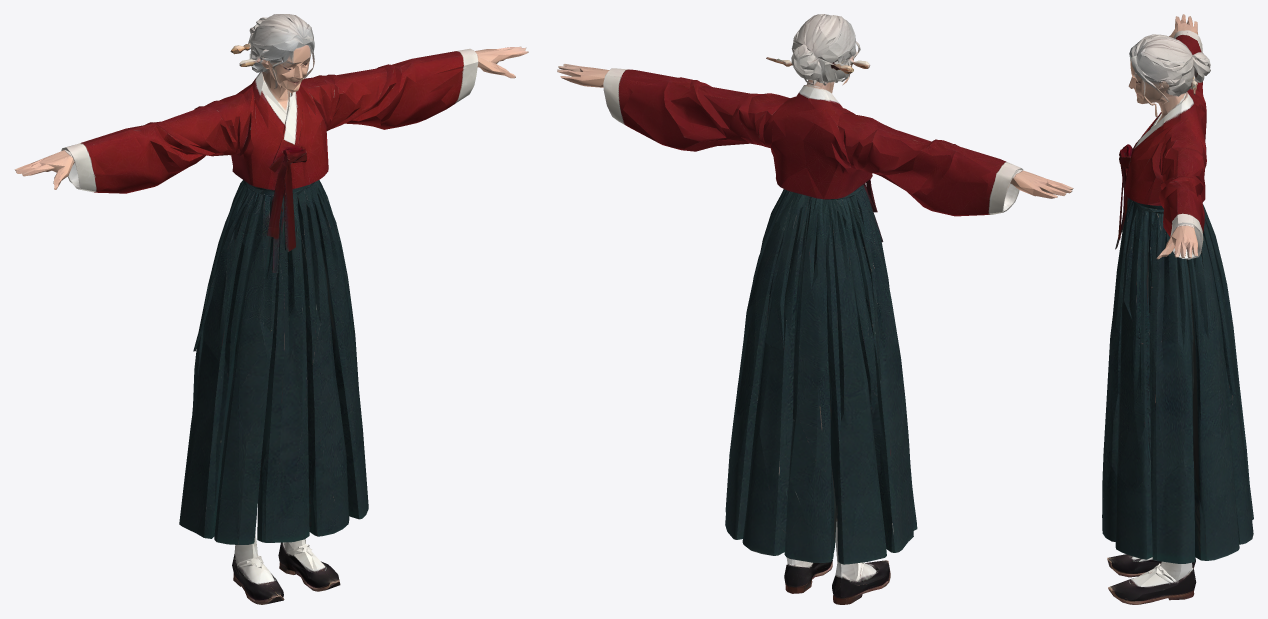
3 views of the same model, side by side, from view 1: azimuth 30°, elevation 25°; view 2: azimuth 150°, elevation 25°; view 3: azimuth 270°, elevation 25° (orthographic). The views are drawn at different scales.
Size of the model in its own units: 1.8 by 1.9 by 0.4766.
1 material, 1 textured.
